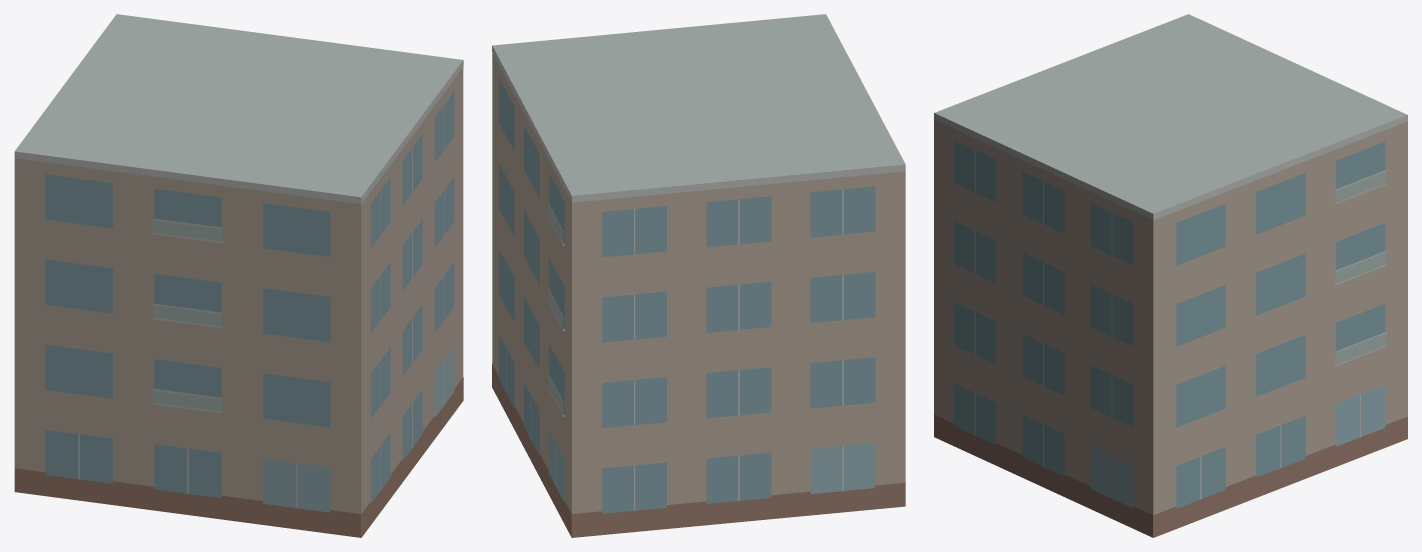
Rendered from residential-f5db5699-f092-418f-9a2b-97fe0b8f36ca.glb.
3 renders of one model, left to right at view 1: azimuth 30°, elevation 25°; view 2: azimuth 150°, elevation 25°; view 3: azimuth 270°, elevation 25°, orthographic. The views are drawn at different scales.
Parts seen in each view (by area): view 1: residential-f5db5699-f092-418f-9a2b-97fe0b8f36ca.tmp; view 2: residential-f5db5699-f092-418f-9a2b-97fe0b8f36ca.tmp; view 3: residential-f5db5699-f092-418f-9a2b-97fe0b8f36ca.tmp.
Boxes of the visible parts, box(x1,y1,x2,y2) form: residential-f5db5699-f092-418f-9a2b-97fe0b8f36ca.tmp: box(14, 14, 463, 537); residential-f5db5699-f092-418f-9a2b-97fe0b8f36ca.tmp: box(492, 14, 905, 537); residential-f5db5699-f092-418f-9a2b-97fe0b8f36ca.tmp: box(934, 14, 1407, 537).
Bounding box in the file's own units: 16.14 × 12.2 × 16.17.
